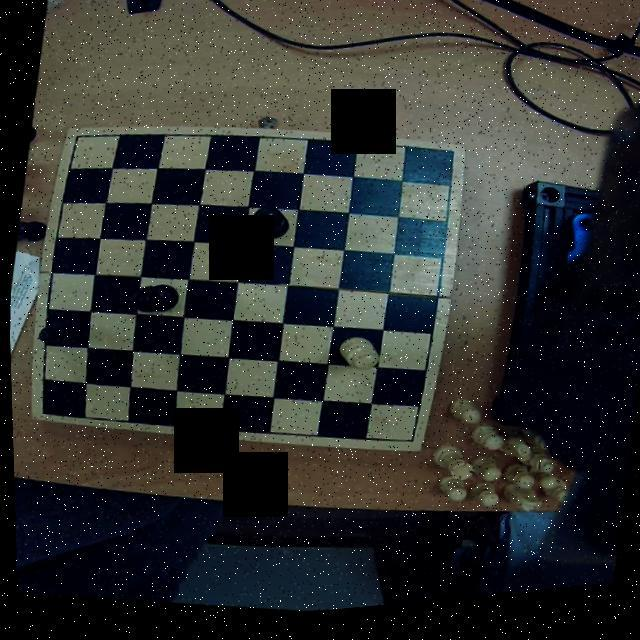chess-table-corners: (433, 152, 461, 178), (394, 434, 422, 458), (27, 403, 57, 424), (62, 130, 86, 153)
